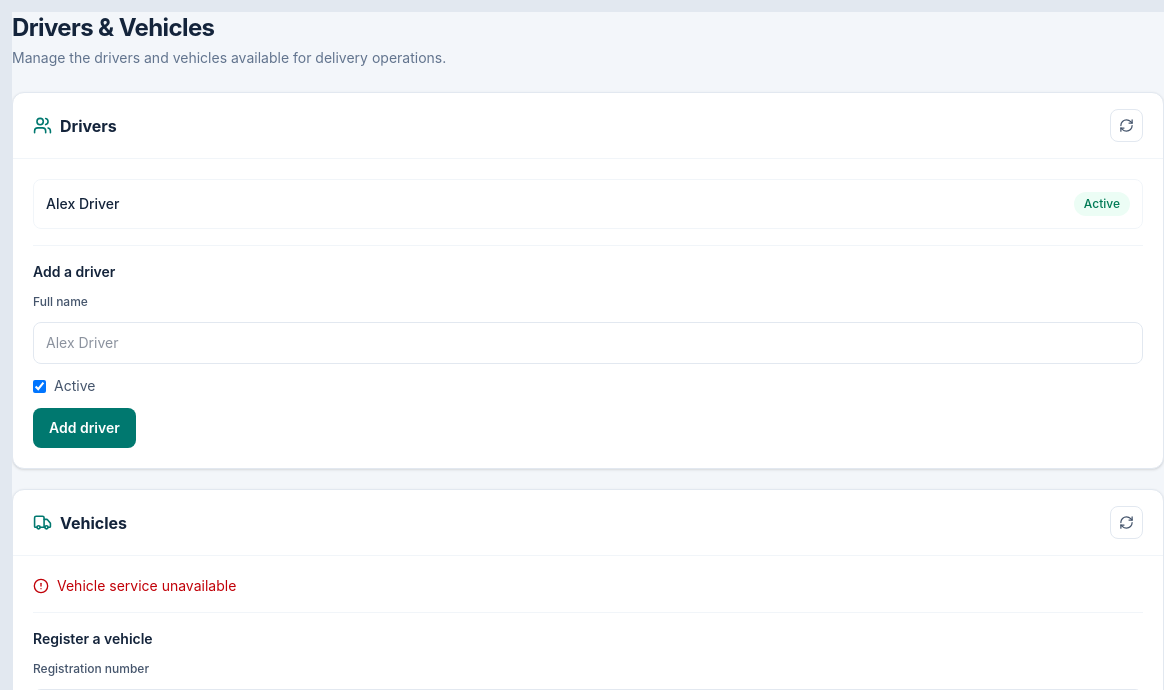
Test case: FleetManagementPage › retries loading vehicles after a request failure
Expected: the text "Vehicle service unavailable" is shown, top-left (33, 577), bottom-right (236, 594)
What coordinates should you click on to do the following:
click the button named "Refresh vehicles"
I would click on:
 (1126, 522)
Its box is top-left (1110, 506), bottom-right (1143, 539).
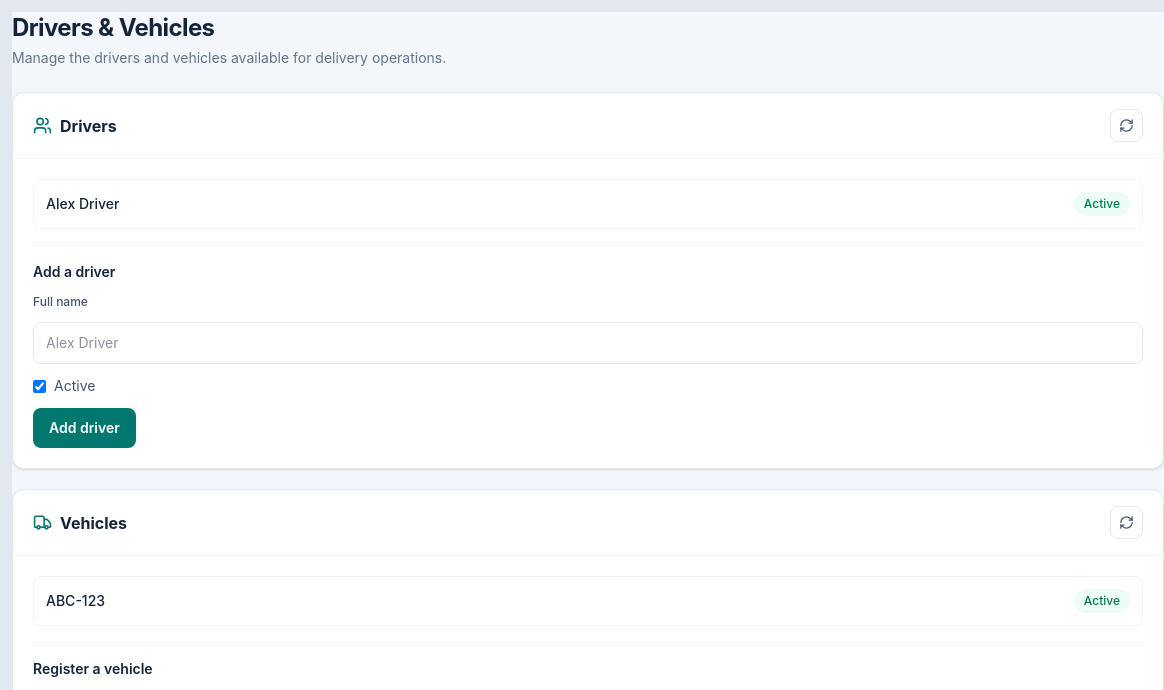
Result: the text "ABC-123" is shown at top-left (46, 591), bottom-right (105, 611)
